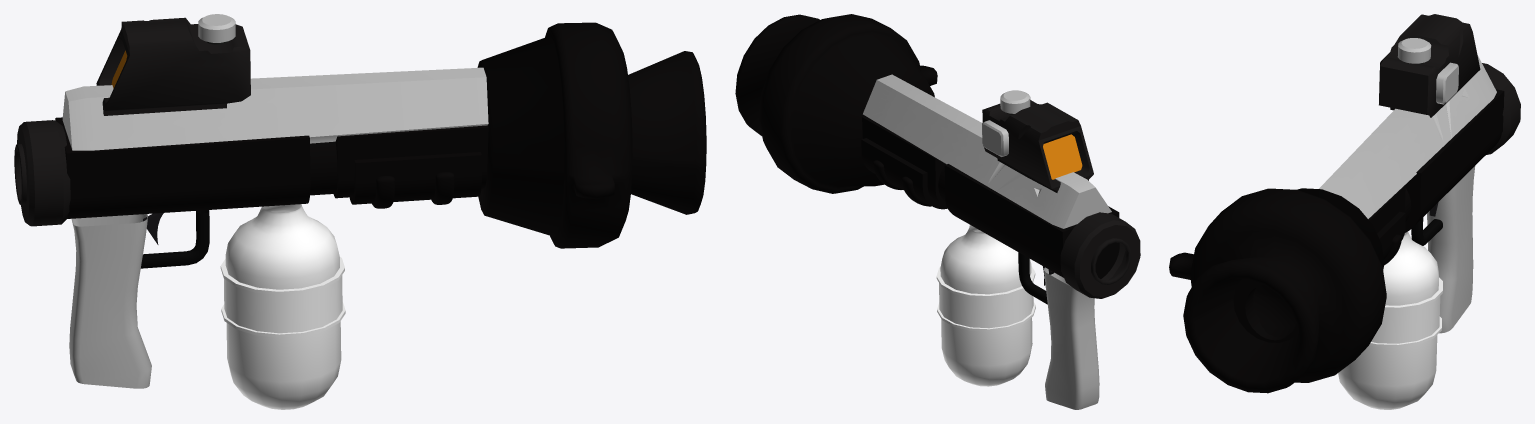
3 renders of one model, left to right at view 1: azimuth 30°, elevation 25°; view 2: azimuth 150°, elevation 25°; view 3: azimuth 270°, elevation 25°, orthographic. The views are drawn at different scales.
Visible parts, largest first — view 1: end, rectange, Box007, bottle, handle, Box009, bottomCircle, finger, Cylinder011; view 2: end, bottle, Box007, rectange, Box009, handle, bottomCircle, Box014, finger, Cylinder011; view 3: end, bottle, Box007, rectange, Box009, handle, bottomCircle, Cylinder011, Box014, finger.
Boxes of the visible parts, box(x1,y1,x2,y2) form: end: box(477, 22, 706, 248); rectange: box(55, 117, 488, 218); Box007: box(62, 67, 488, 150); bottle: box(220, 204, 345, 409); handle: box(69, 214, 151, 388); Box009: box(96, 17, 250, 115); bottomCircle: box(14, 120, 70, 226); finger: box(140, 210, 209, 268); Cylinder011: box(198, 14, 235, 44); end: box(735, 14, 937, 193); bottle: box(936, 225, 1035, 386); Box007: box(863, 74, 1111, 228); rectange: box(861, 116, 1119, 278); Box009: box(982, 100, 1093, 192); handle: box(1044, 267, 1099, 409); bottomCircle: box(1060, 212, 1140, 298); Box014: box(982, 120, 1008, 156); finger: box(1018, 252, 1047, 304); Cylinder011: box(1000, 90, 1030, 114); end: box(1169, 188, 1386, 393); bottle: box(1338, 231, 1442, 409); Box007: box(1319, 55, 1496, 218); rectange: box(1233, 89, 1504, 342); Box009: box(1379, 14, 1480, 117); handle: box(1427, 166, 1475, 333); bottomCircle: box(1482, 63, 1520, 154); Cylinder011: box(1397, 38, 1431, 64); Box014: box(1436, 62, 1458, 104); finger: box(1411, 217, 1442, 245).
Bounding box in the file's own units: 135 × 84.92 × 80.29.
